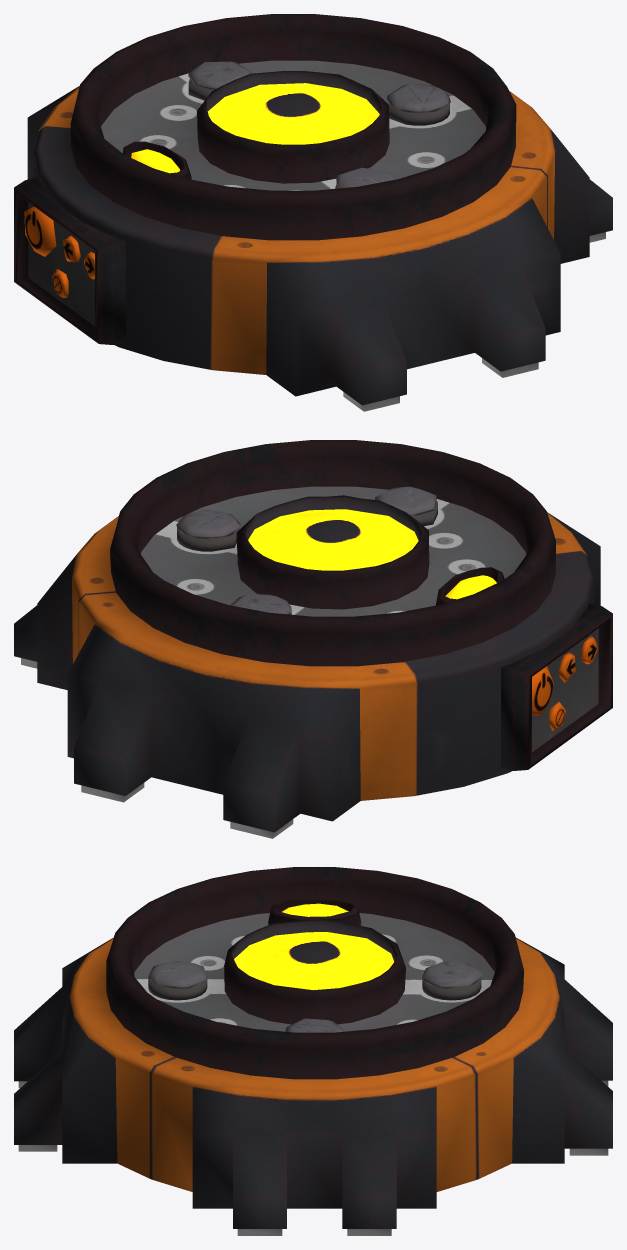
The model's file is SM_StickMine_LODs.FBX.
The picture shows the model from 3 angles, top to bottom: view 1: azimuth 30°, elevation 25°; view 2: azimuth 150°, elevation 25°; view 3: azimuth 270°, elevation 25°; orthographic projection. The views are drawn at different scales.
Parts seen in each view (by area): view 1: SM_StickMine_LODs_LOD0; view 2: SM_StickMine_LODs_LOD0; view 3: SM_StickMine_LODs_LOD0.
Part boxes in pixels (left/top/right/bottom): SM_StickMine_LODs_LOD0: left=14, top=14, right=612, bottom=411; SM_StickMine_LODs_LOD0: left=14, top=440, right=612, bottom=838; SM_StickMine_LODs_LOD0: left=14, top=867, right=612, bottom=1235.
Size of what is drawn, in the model's own units: 22.99 by 24.8 by 7.38.
